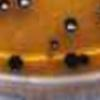black: (61, 15, 80, 35), (4, 52, 22, 71), (61, 51, 76, 70), (75, 52, 91, 68), (15, 0, 33, 10), (0, 0, 11, 13), (50, 39, 58, 49)
